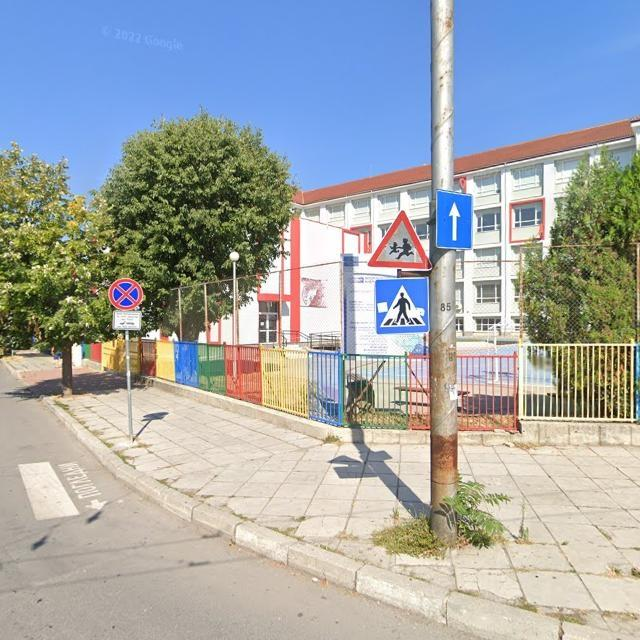forb_waiting: (110, 280, 143, 311)
info_crosswalk: (375, 279, 430, 337)
